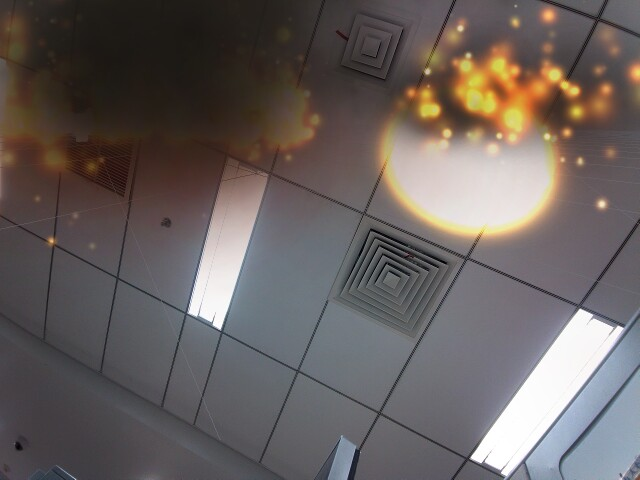fire: (385, 79, 567, 237)
